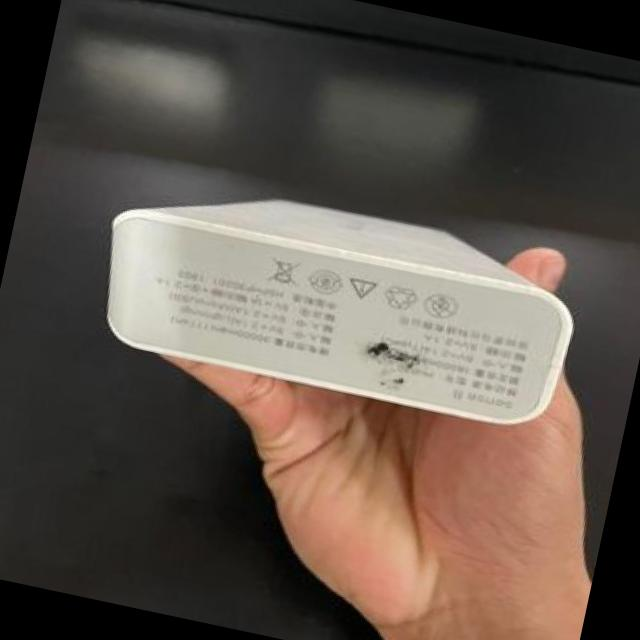portable-charger: (72, 154, 601, 448)
